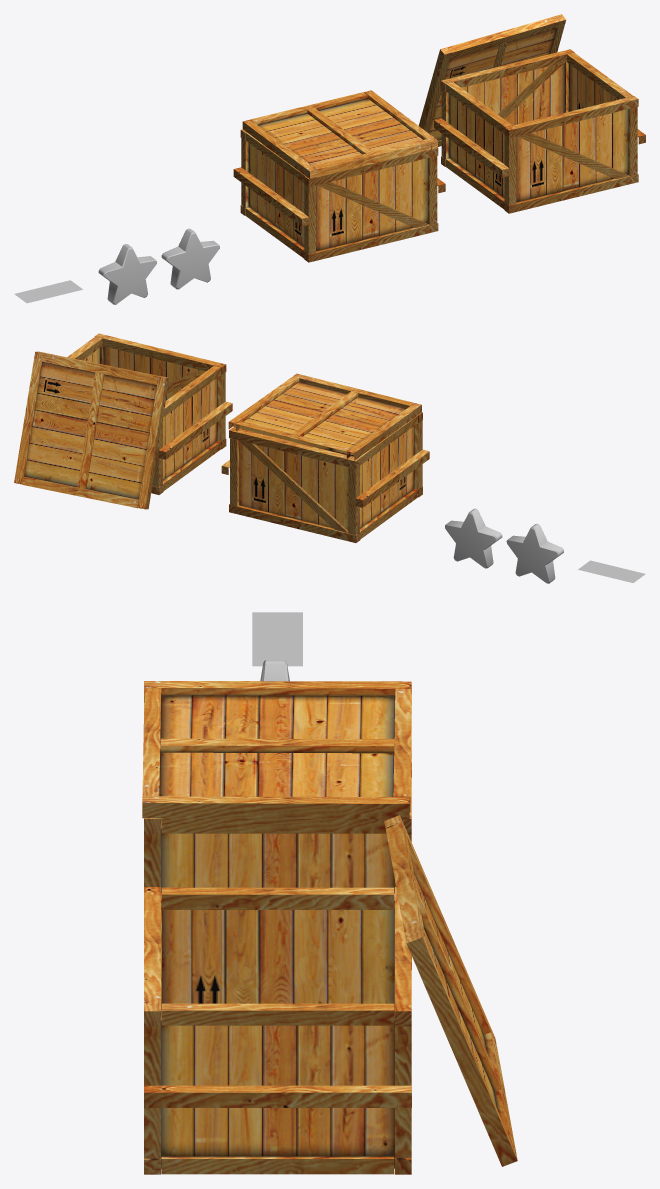
File: box and stars.FBX
3 views of the same model, one above another, from view 1: azimuth 30°, elevation 25°; view 2: azimuth 150°, elevation 25°; view 3: azimuth 270°, elevation 25° (orthographic). The views are drawn at different scales.
Visible parts, largest first — view 1: box_open_, box_close_, Star_Undone_, Star_Done_, punktir_; view 2: box_open_, box_close_, Star_Done_, Star_Undone_, punktir_; view 3: box_open_, box_close_, punktir_.
Boxes of the visible parts, <box> form: box_open_: <box>418,14,645,213</box>; box_close_: <box>233,90,445,262</box>; Star_Undone_: <box>161,228,219,289</box>; Star_Done_: <box>98,244,156,304</box>; punktir_: <box>14,280,82,303</box>; box_open_: <box>14,333,232,509</box>; box_close_: <box>221,373,429,542</box>; Star_Done_: <box>506,523,563,583</box>; Star_Undone_: <box>445,508,502,568</box>; punktir_: <box>578,560,645,582</box>; box_open_: <box>144,815,517,1174</box>; box_close_: <box>142,681,411,905</box>; punktir_: <box>252,612,302,666</box>.
Bounding box in the file's own units: 0.2161 × 0.05 × 0.0604.
